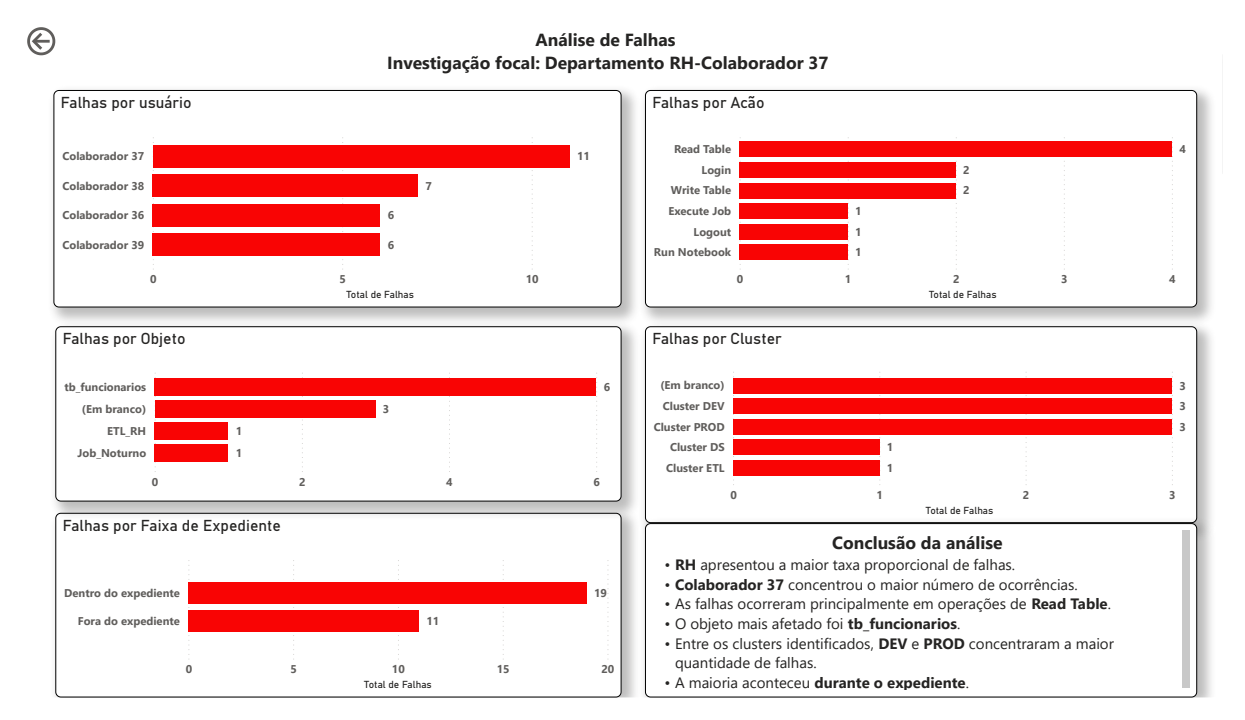

This screenshot's page, from the dashboard's own definition file:
{"tool":"powerbi","page":{"name":"Análise de Falhas","canvas":[1280,720],"ordinal":1},"visuals":[{"type":"actionButton","box":[0,0,100,40],"z":0},{"type":"barChart","title":"Falhas por usuário","fields":{"Y":["FAuditLogs.Totral de Falhas"],"Category":["DimUser.Nome"]},"box":[33.1,72,606.2,231.8],"z":1000},{"type":"barChart","title":"Falhas por Faixa de Expediente","fields":{"Y":["FAuditLogs.Totral de Falhas"],"Category":["FAuditLogs.FaixaExpediente"]},"box":[34.6,522.7,604.8,197.3],"z":2000},{"type":"barChart","title":"Falhas por Acão","fields":{"Y":["FAuditLogs.Totral de Falhas"],"Category":["DimAction.Acao"]},"box":[663.8,72,589,231.8],"z":3000},{"type":"barChart","title":"Falhas por Objeto","fields":{"Y":["FAuditLogs.Totral de Falhas"],"Category":["DimObject.ObjectName"]},"box":[34.6,324,604.8,187.2],"z":4000},{"type":"barChart","title":"Falhas por Cluster","fields":{"Y":["FAuditLogs.Totral de Falhas"],"Category":["DimCluster.Cluster"]},"box":[663.8,324,589,210.2],"z":5000},{"type":"textbox","box":[309.6,0,629.3,66.2],"z":6000},{"type":"textbox","box":[663.8,534.2,589,185.8],"z":7000}]}

Visuals, with their boxes in screenshot pixels (x1, y1, x2, y2), scaled from the page's 1280x720 canvas onto the 1245x720 screenshot:
actionButton: 0,0,97,40
"Falhas por usuário" barChart: 32,72,622,304
"Falhas por Faixa de Expediente" barChart: 34,523,622,719
"Falhas por Acão" barChart: 646,72,1219,304
"Falhas por Objeto" barChart: 34,324,622,511
"Falhas por Cluster" barChart: 646,324,1219,534
textbox: 301,0,913,66
textbox: 646,534,1219,719
